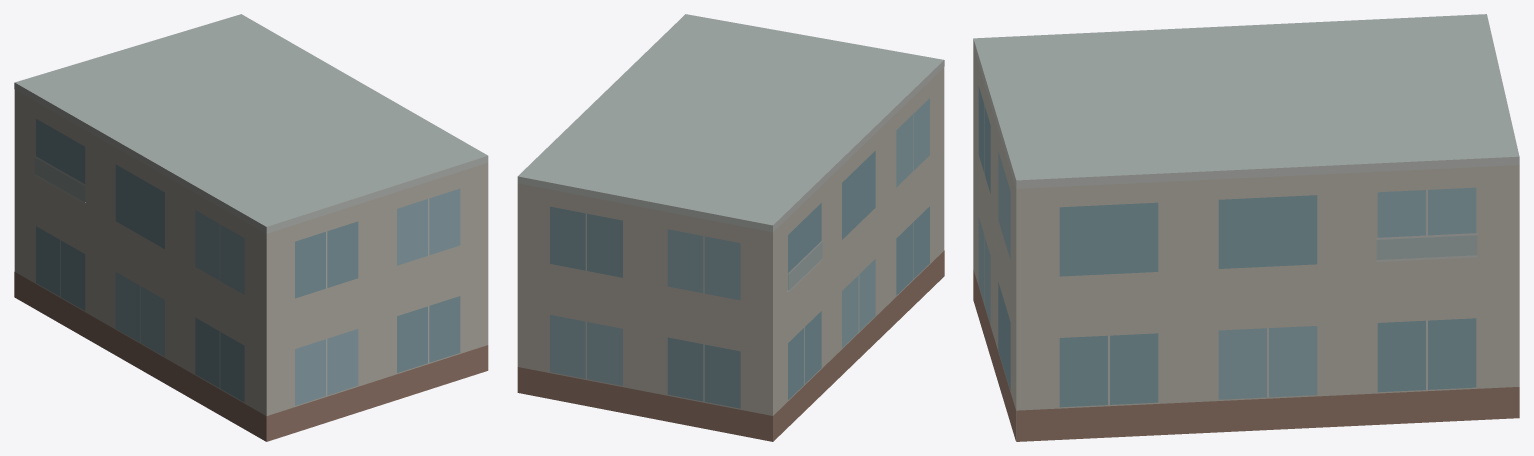
File: survey-upis-32637574.glb
3 views of the same model, side by side, from view 1: azimuth 30°, elevation 25°; view 2: azimuth 150°, elevation 25°; view 3: azimuth 270°, elevation 25° (orthographic). The views are drawn at different scales.
Visible parts, largest first — view 1: survey-upis-32637574.tmp; view 2: survey-upis-32637574.tmp; view 3: survey-upis-32637574.tmp.
Part boxes in pixels (box(x1,y1,x2,y2)): survey-upis-32637574.tmp: box(14, 14, 488, 441); survey-upis-32637574.tmp: box(517, 14, 944, 441); survey-upis-32637574.tmp: box(973, 14, 1519, 441).
Size of the model in its own units: 10.38 by 7.6 by 14.4.
